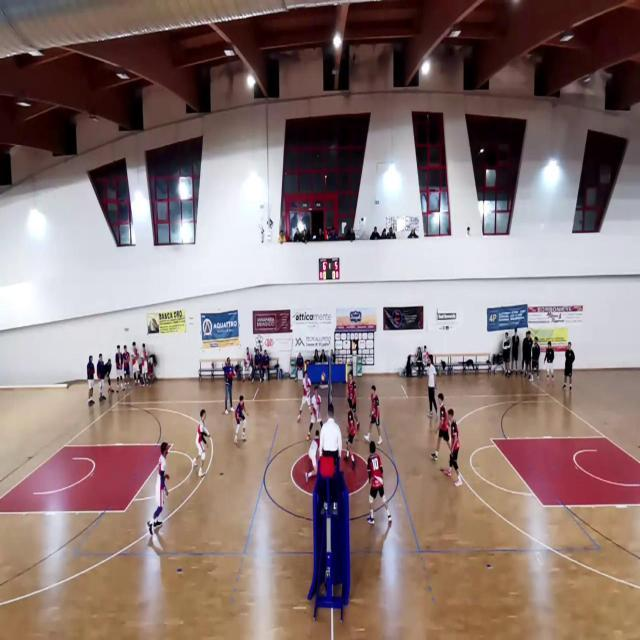volleyball: (321, 372, 326, 382)
